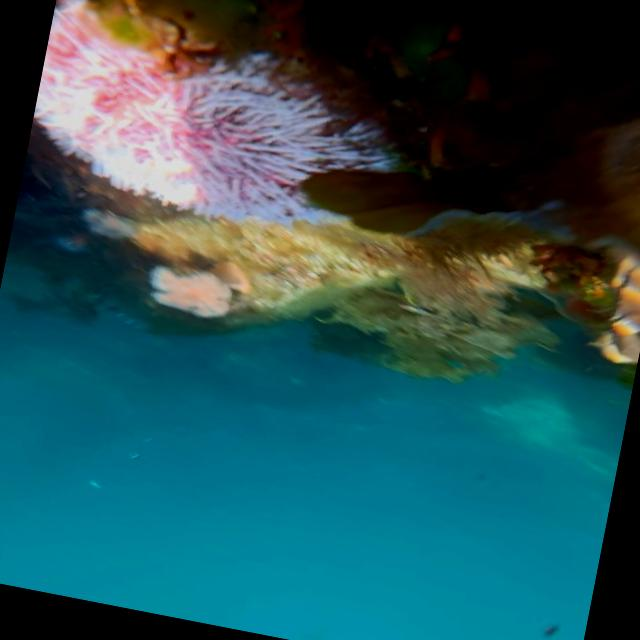Deniz Kestanesi: (20, 0, 425, 257)
